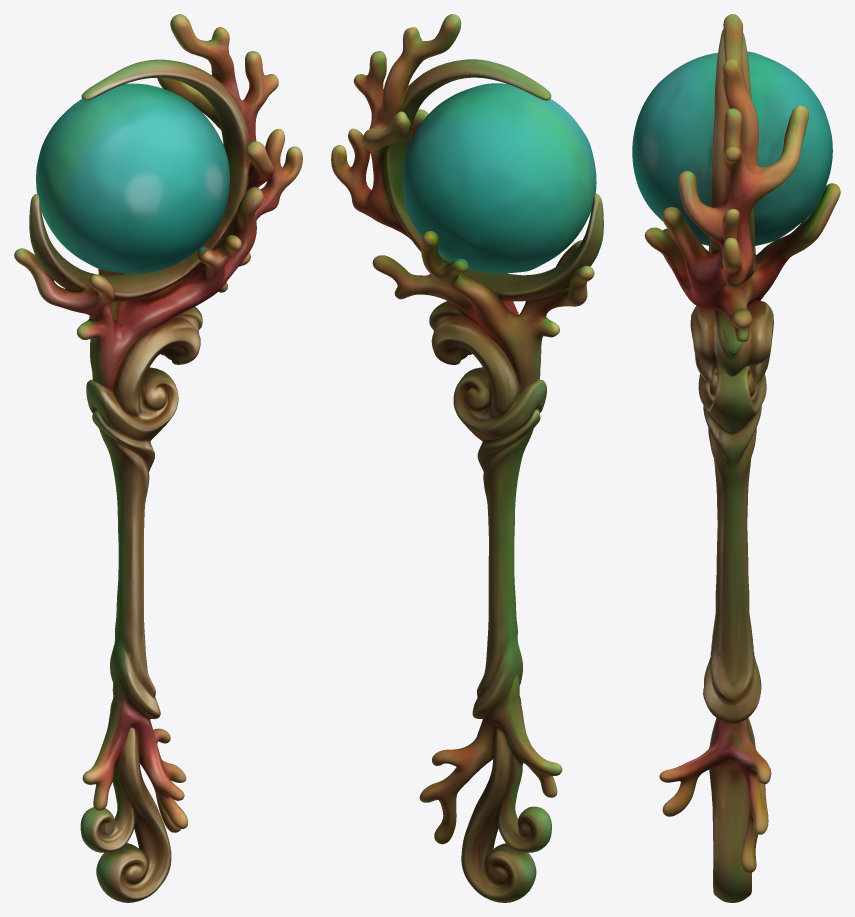
File: Staff_Tripo.glb
3 renders of one model, left to right at view 1: azimuth 30°, elevation 25°; view 2: azimuth 150°, elevation 25°; view 3: azimuth 270°, elevation 25°, orthographic. The views are drawn at different scales.
Visible parts, largest first — view 1: tripo_node_05225fe5; view 2: tripo_node_05225fe5; view 3: tripo_node_05225fe5.
Part boxes in pixels (bbox=[...]): tripo_node_05225fe5: bbox=[14, 14, 302, 902]; tripo_node_05225fe5: bbox=[331, 14, 603, 902]; tripo_node_05225fe5: bbox=[632, 14, 840, 902].
Size of the model in its own units: 32.09 by 97.95 by 20.36.
Materials: 1 (1 with a texture image).
